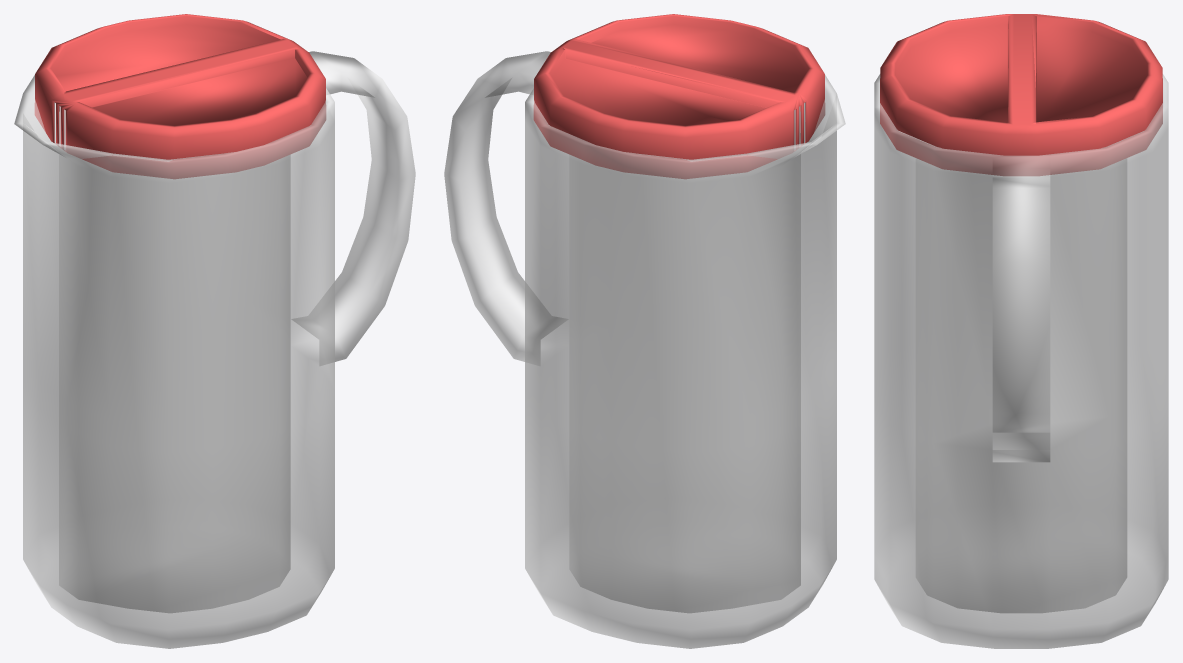
The model's file is Ceret.fbx.
3 renders of one model, left to right at view 1: azimuth 30°, elevation 25°; view 2: azimuth 150°, elevation 25°; view 3: azimuth 270°, elevation 25°, orthographic.
Parts seen in each view (by area): view 1: Cube.009; view 2: Cube.009; view 3: Cube.009.
Part boxes in pixels (x1,y1,x2,y2): Cube.009: (14, 14, 415, 648); Cube.009: (444, 14, 845, 648); Cube.009: (874, 14, 1168, 648).
Bounding box in the file's own units: 57.95 × 76.81 × 39.15.
Materials: 2 (2 with a texture image).
